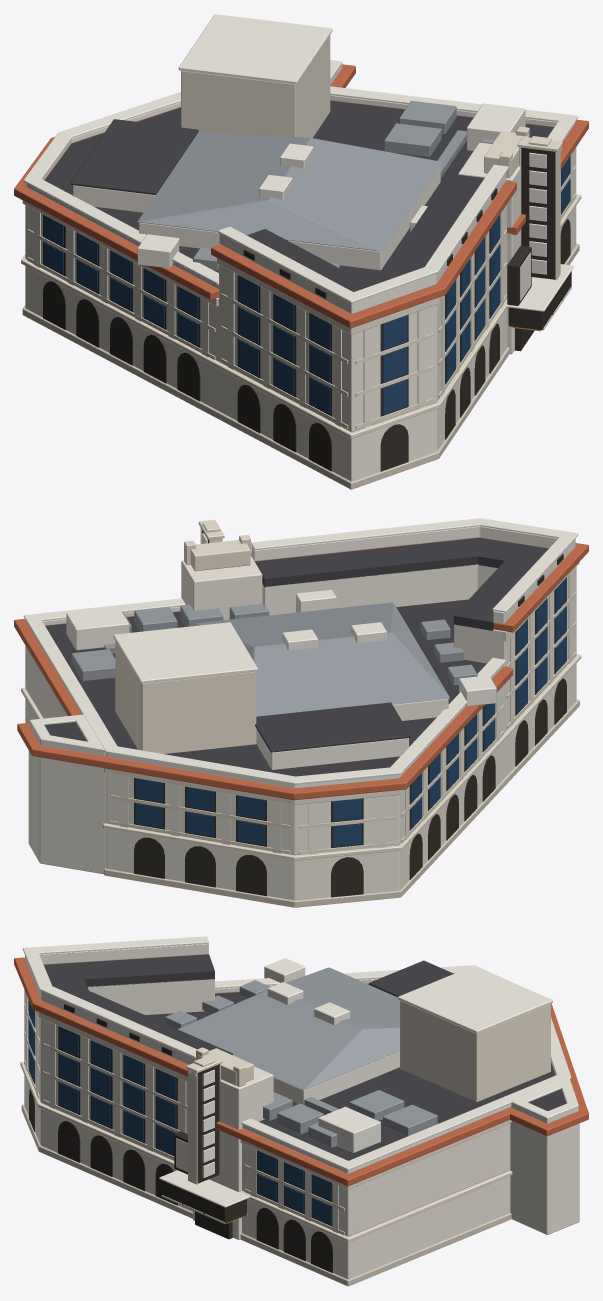
The model's file is orpheum-theatre.glb.
3 views of the same model, one above another, from view 1: azimuth 30°, elevation 25°; view 2: azimuth 150°, elevation 25°; view 3: azimuth 270°, elevation 25° (orthographic). The views are drawn at different scales.
Parts seen in each view (by area): view 1: aud_roof, podium, stage_house, low_wall, low_deck, stage_cap, boh_cap, low_cap, tall_wall, tall_deck, tall_tile, tall_cap (+45 smaller); view 2: aud_roof, podium, stage_house, tall_deck, tall_wall, low_wall, annex, low_deck, low_cap, low_tile, stage_cap, boh_cap (+37 smaller); view 3: aud_roof, podium, stage_house, low_wall, annex, tall_deck, low_deck, stage_cap, tall_wall, low_cap, low_tile, bay (+52 smaller).
Part boxes in pixels (left/top/right/bottom): aud_roof: left=137, top=132, right=441, bottom=251; podium: left=25, top=206, right=576, bottom=481; stage_house: left=181, top=35, right=330, bottom=137; low_wall: left=25, top=147, right=576, bottom=432; low_deck: left=44, top=100, right=553, bottom=279; stage_cap: left=178, top=14, right=332, bottom=84; boh_cap: left=71, top=119, right=198, bottom=194; low_cap: left=23, top=86, right=578, bottom=284; tall_wall: left=219, top=204, right=506, bottom=431; tall_deck: left=247, top=174, right=484, bottom=291; tall_tile: left=211, top=181, right=516, bottom=328; tall_cap: left=218, top=164, right=508, bottom=303; aud_roof: left=196, top=602, right=449, bottom=716; podium: left=25, top=663, right=576, bottom=900; stage_house: left=115, top=641, right=256, bottom=753; tall_deck: left=255, top=537, right=548, bottom=630; tall_wall: left=262, top=564, right=576, bottom=730; low_wall: left=25, top=598, right=576, bottom=855; annex: left=28, top=750, right=106, bottom=874; low_deck: left=45, top=599, right=486, bottom=776; low_cap: left=23, top=598, right=505, bottom=784; low_tile: left=14, top=611, right=513, bottom=800; stage_cap: left=113, top=622, right=258, bottom=683; boh_cap: left=255, top=702, right=410, bottom=752; aud_roof: left=177, top=967, right=399, bottom=1090; podium: left=24, top=1075, right=510, bottom=1279; stage_house: left=400, top=1000, right=550, bottom=1101; low_wall: left=24, top=1009, right=510, bottom=1236; annex: left=510, top=1121, right=579, bottom=1234; tall_deck: left=44, top=954, right=232, bottom=1054; low_deck: left=145, top=984, right=555, bottom=1160; stage_cap: left=398, top=966, right=552, bottom=1033; tall_wall: left=24, top=979, right=214, bottom=1158; low_cap: left=215, top=965, right=571, bottom=1170; low_tile: left=215, top=983, right=578, bottom=1186; bay: left=193, top=1066, right=273, bottom=1239.
Size of the model in its own units: 67.65 by 27.2 by 77.62.
